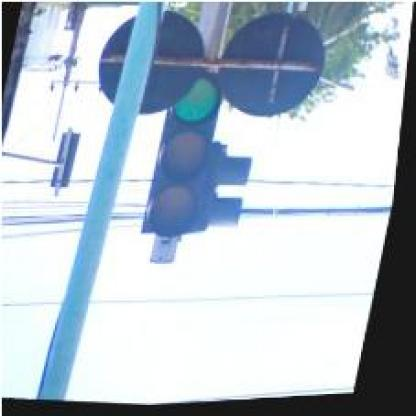green: (143, 72, 227, 240)
